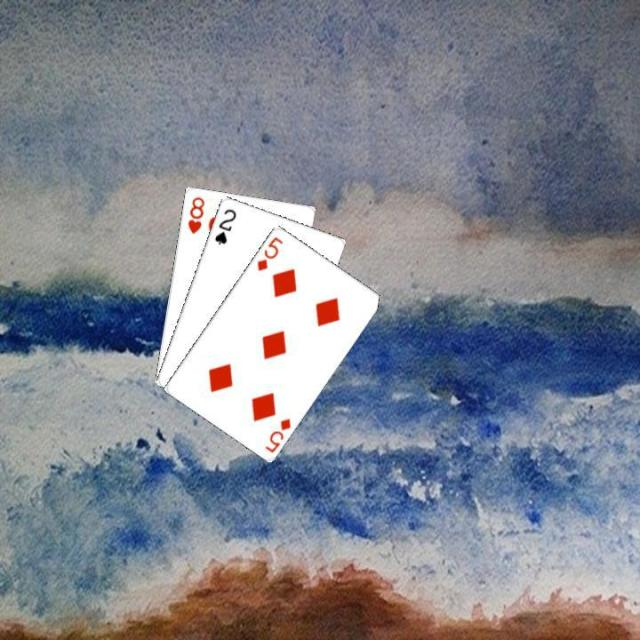2S: (211, 204, 238, 247)
5D: (252, 232, 284, 273), (262, 414, 292, 454)
8H: (184, 193, 206, 235)
